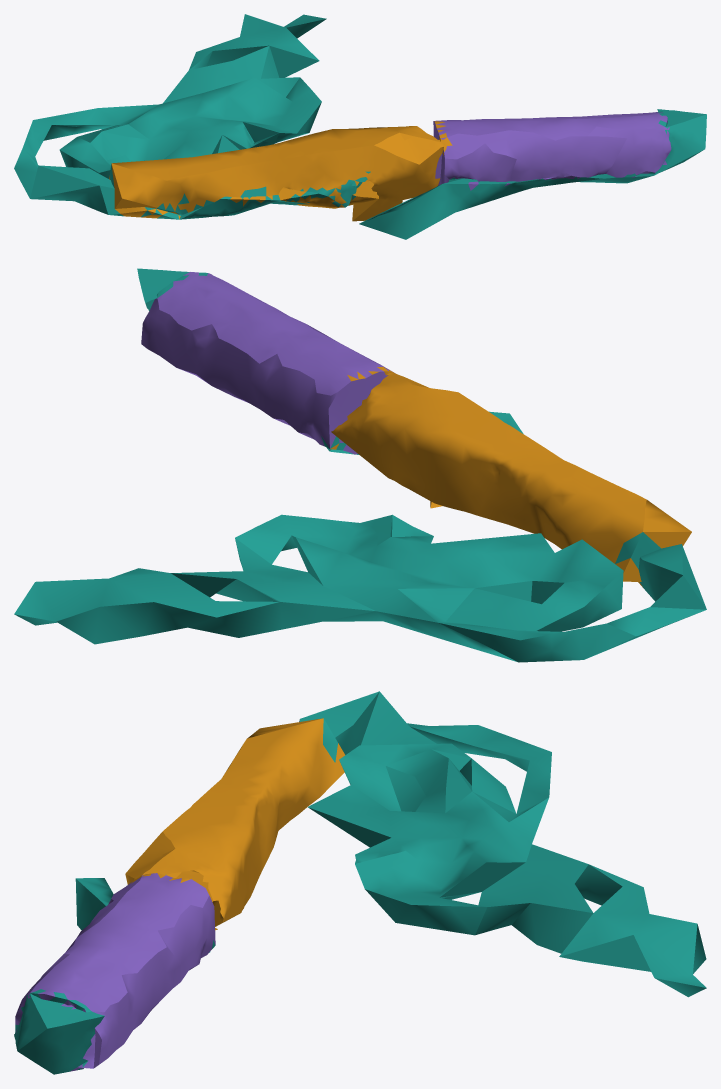
File: segmentation_mesh.glb
The picture shows the model from 3 angles, top to bottom: view 1: azimuth 30°, elevation 25°; view 2: azimuth 150°, elevation 25°; view 3: azimuth 270°, elevation 25°; orthographic projection. The views are drawn at different scales.
Parts seen in each view (by area): view 1: segmentation_map; view 2: segmentation_map; view 3: segmentation_map.
Part boxes in pixels (x1=…): segmentation_map: x1=14, y1=14, x2=706, y2=239; segmentation_map: x1=14, y1=268, x2=706, y2=662; segmentation_map: x1=14, y1=691, x2=706, y2=1074.
Size of the model in its own units: 0.253 by 0.0348 by 0.2059.
